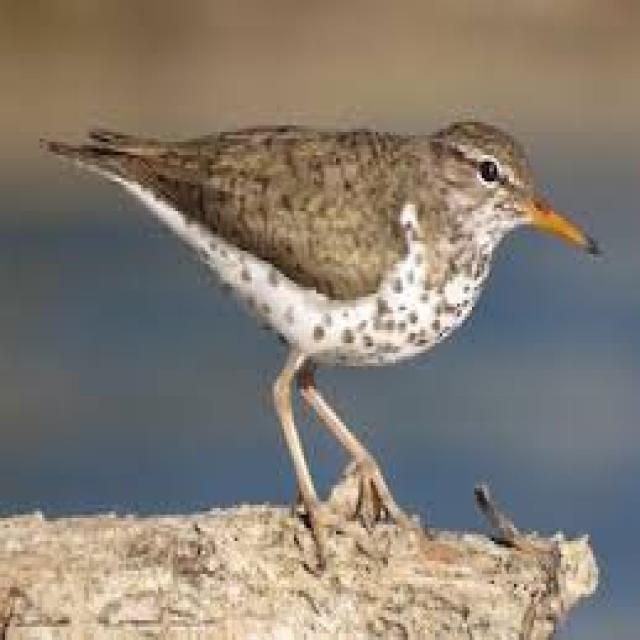Sandpiper: (58, 123, 589, 512)
